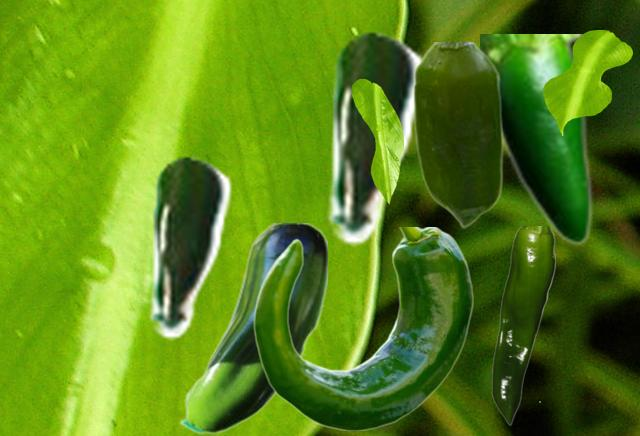green_chili: (253, 227, 473, 429), (178, 223, 326, 434), (480, 34, 592, 245), (322, 29, 423, 245), (412, 42, 502, 227), (144, 154, 232, 339), (491, 226, 554, 424)
